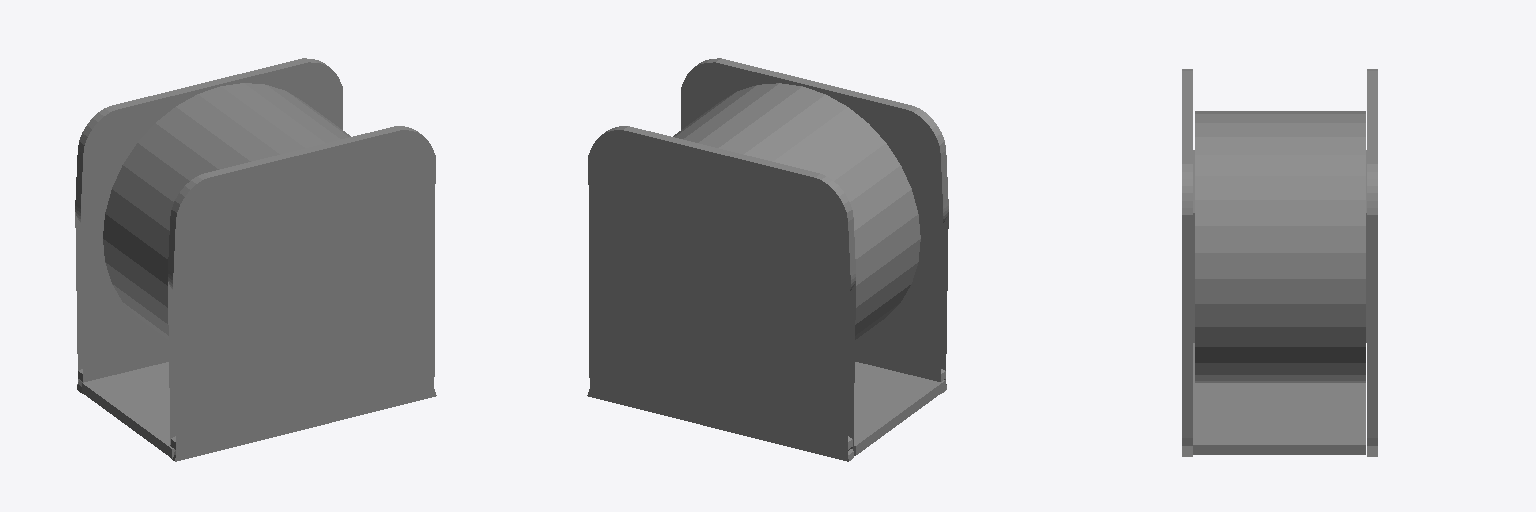
The model's file is cintamedica.obj.
3 renders of one model, left to right at view 1: azimuth 30°, elevation 25°; view 2: azimuth 150°, elevation 25°; view 3: azimuth 270°, elevation 25°, orthographic.
Parts seen in each view (by area): view 1: Line002, Tube001, Line001, Box001; view 2: Line001, Tube001, Line002, Box001; view 3: Tube001, Box001, Line001, Line002, Box002.
Part boxes in pixels (x1,y1,x2,y2): Line002: (168,126,436,461); Tube001: (103,83,350,339); Line001: (75,58,342,393); Box001: (82,362,174,458); Line001: (587,126,855,461); Tube001: (673,83,920,339); Line002: (681,58,948,393); Box001: (854,362,945,455); Tube001: (1195,111,1365,382); Box001: (1193,343,1365,454); Line001: (1367,69,1377,456); Line002: (1182,69,1192,456); Box002: (1193,150,1366,342).
Size of the model in its own units: 23.46 by 23.54 by 15.14.